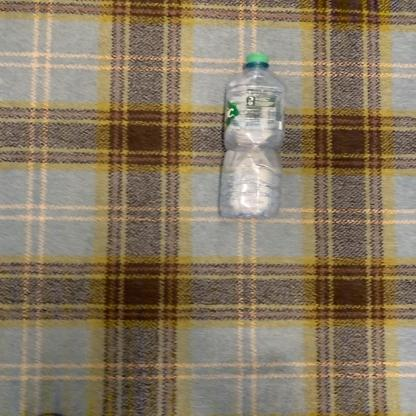trash: (220, 53, 288, 220)
